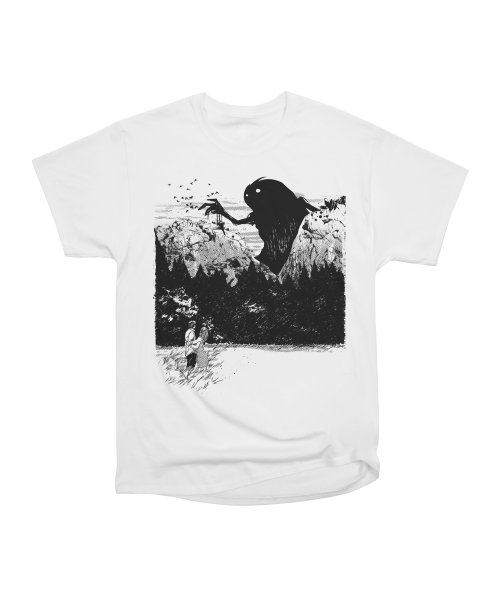design: (149, 169, 351, 394)
